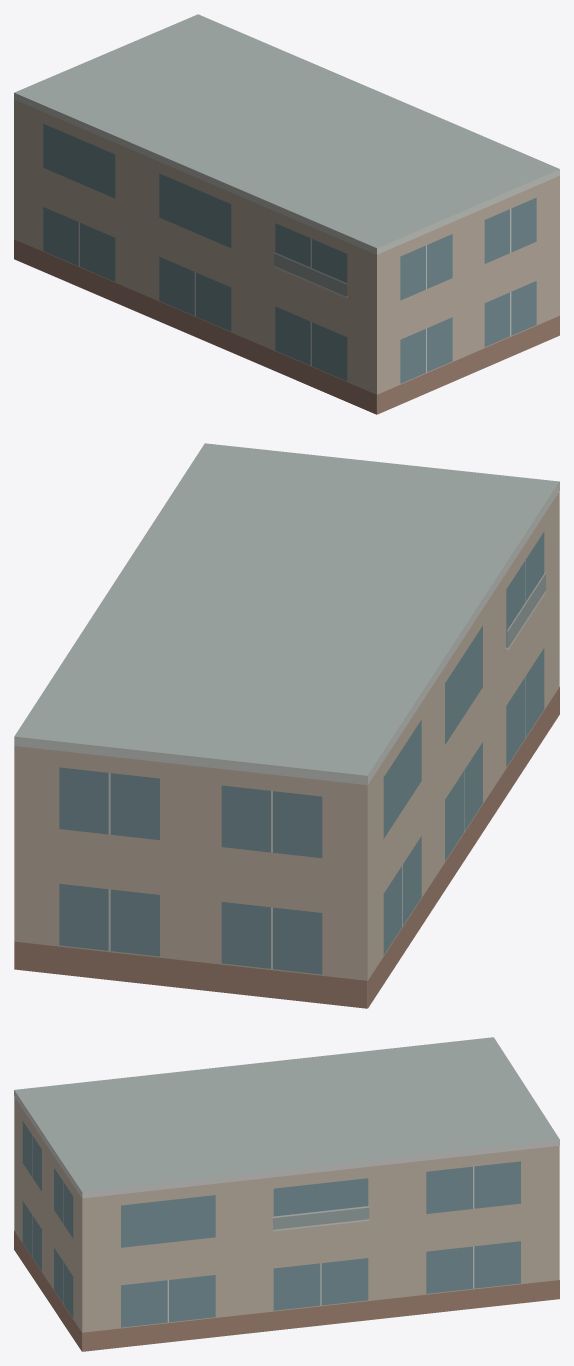
The model's file is survey-upis-32872157.glb.
3 views of the same model, one above another, from view 1: azimuth 30°, elevation 25°; view 2: azimuth 150°, elevation 25°; view 3: azimuth 270°, elevation 25° (orthographic). The views are drawn at different scales.
Parts seen in each view (by area): view 1: survey-upis-32872157.tmp; view 2: survey-upis-32872157.tmp; view 3: survey-upis-32872157.tmp.
Part boxes in pixels (box(x1,y1,x2,y2)): survey-upis-32872157.tmp: box(14, 14, 559, 414); survey-upis-32872157.tmp: box(14, 443, 559, 1008); survey-upis-32872157.tmp: box(14, 1037, 559, 1351).
Bounding box in the file's own units: 12.71 × 6.1 × 18.9.
